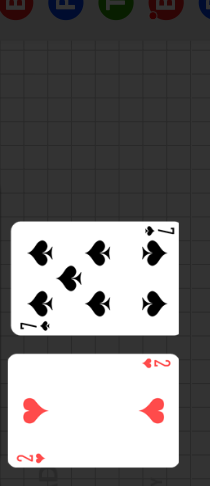2H: (140, 358, 172, 371)
7S: (143, 225, 176, 238)
